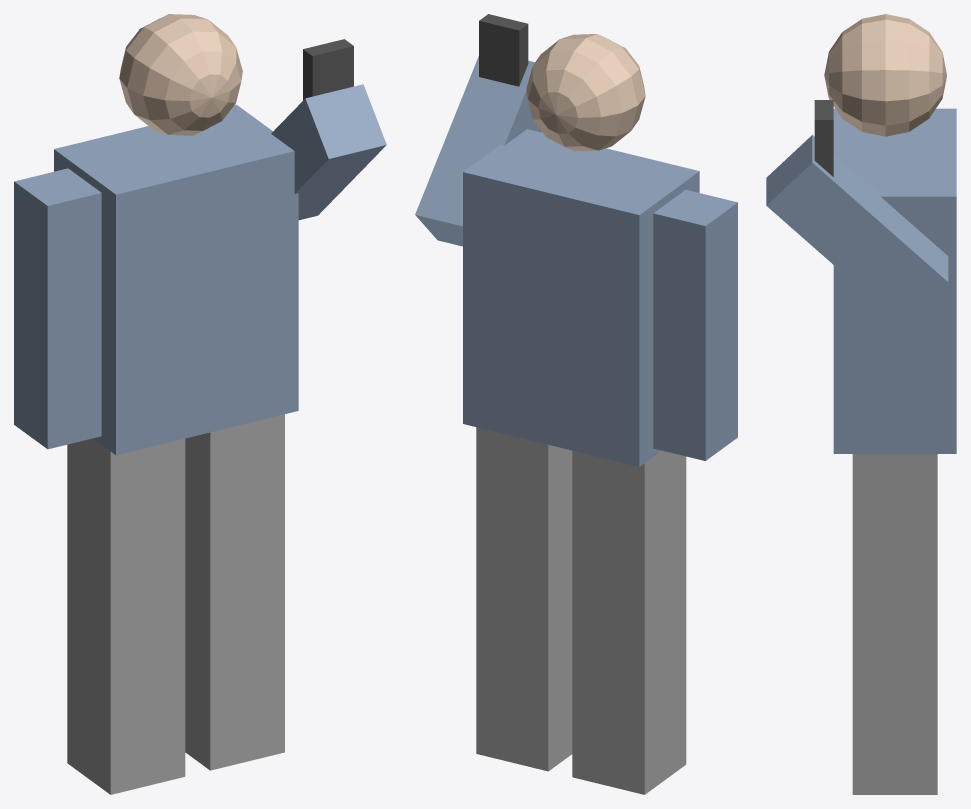
Rendered from phone_use.glb.
3 views of the same model, side by side, from view 1: azimuth 30°, elevation 25°; view 2: azimuth 150°, elevation 25°; view 3: azimuth 270°, elevation 25° (orthographic). The views are drawn at different scales.
Parts seen in each view (by area): view 1: torso, leg_l, leg_r, arm_l, head, arm_r, phone; view 2: torso, leg_l, leg_r, arm_l, head, arm_r, phone; view 3: torso, leg_r, arm_r, head, phone.
Part boxes in pixels (left/top/right/bottom): torso: left=54, top=104, right=298, bottom=455; leg_l: left=67, top=438, right=185, bottom=794; leg_r: left=185, top=414, right=284, bottom=770; arm_l: left=14, top=168, right=101, bottom=449; head: left=119, top=14, right=242, bottom=135; arm_r: left=271, top=84, right=386, bottom=220; phone: left=303, top=39, right=353, bottom=100; torso: left=463, top=129, right=699, bottom=466; leg_l: left=572, top=450, right=686, bottom=794; leg_r: left=476, top=427, right=572, bottom=771; arm_l: left=653, top=190, right=737, bottom=460; head: left=526, top=34, right=645, bottom=151; arm_r: left=415, top=56, right=542, bottom=246; phone: left=479, top=14, right=528, bottom=86; torso: left=833, top=108, right=956, bottom=453; leg_r: left=852, top=454, right=937, bottom=794; arm_r: left=766, top=135, right=948, bottom=324; head: left=824, top=14, right=946, bottom=136; phone: left=814, top=100, right=833, bottom=176.
Size of the model in its own units: 0.7 by 1.71 by 0.4021.
